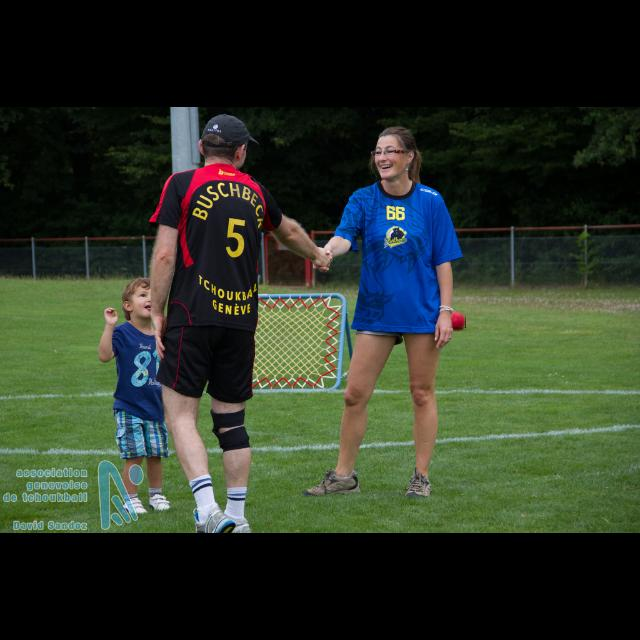Football: (448, 310, 466, 328)
